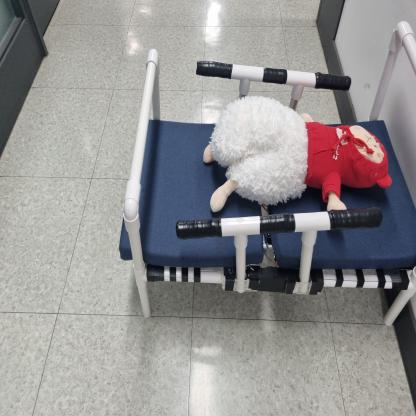yp: (120, 20, 411, 332)
